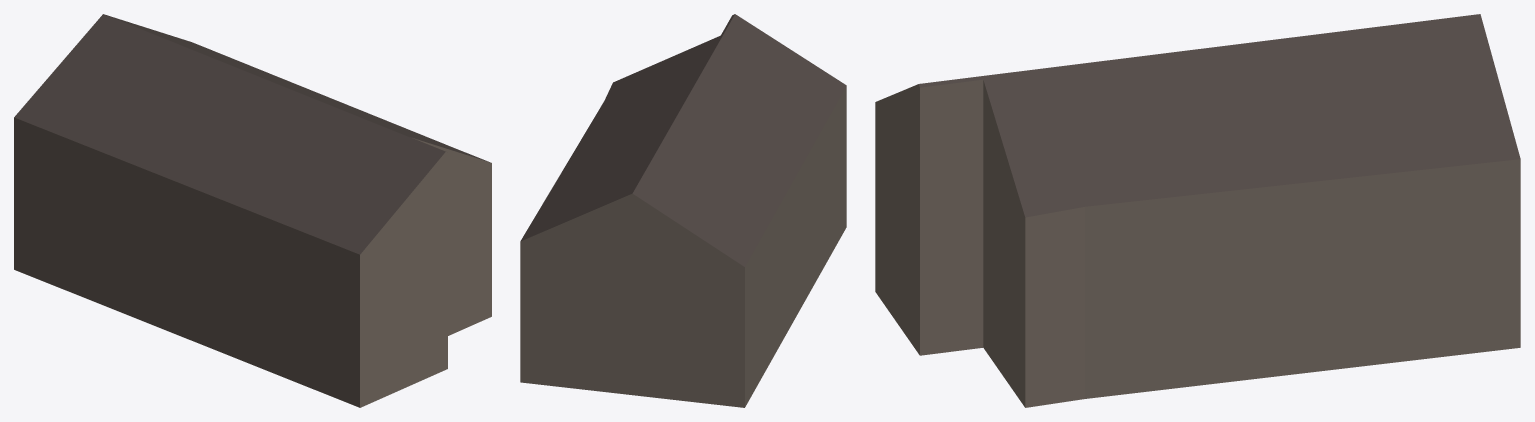
3 renders of one model, left to right at view 1: azimuth 30°, elevation 25°; view 2: azimuth 150°, elevation 25°; view 3: azimuth 270°, elevation 25°, orthographic. The views are drawn at different scales.
Visible parts, largest first — view 1: HP-w1198843253; view 2: HP-w1198843253; view 3: HP-w1198843253.
Boxes of the visible parts, bbox=[...] form: HP-w1198843253: bbox=[14, 14, 491, 407]; HP-w1198843253: bbox=[520, 14, 846, 407]; HP-w1198843253: bbox=[875, 14, 1520, 407].
Bounding box in the file's own units: 12.79 × 8.59 × 18.6.
